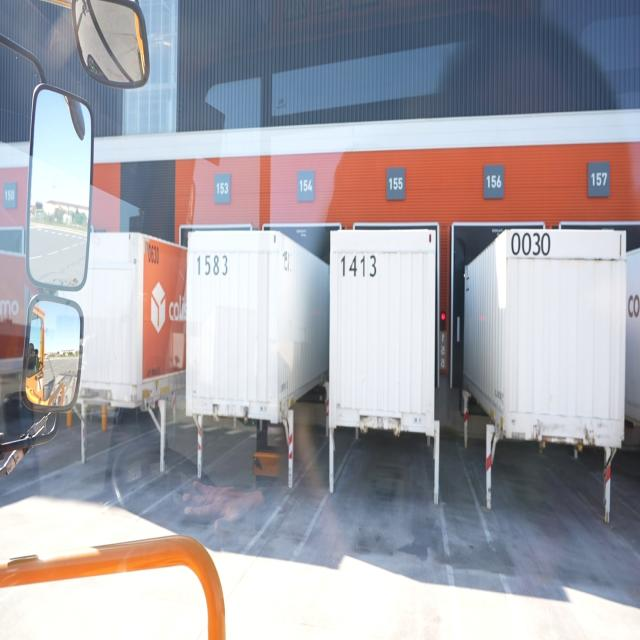Code: (337, 250, 379, 286), (507, 230, 552, 262), (192, 247, 231, 281), (146, 241, 161, 269)
